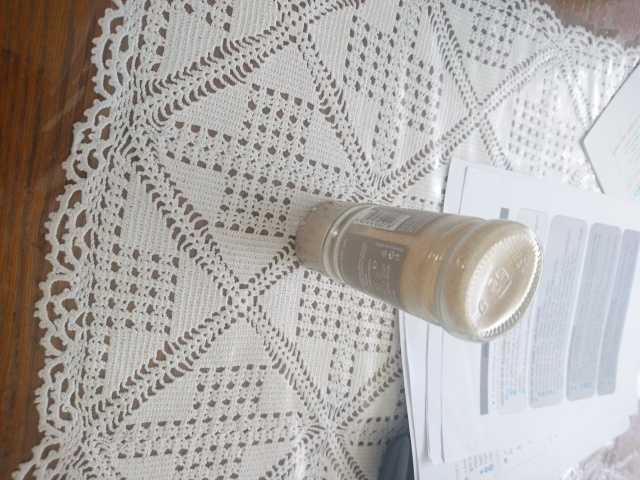Kotanyi Garlic Granules 70g: (292, 197, 546, 346)
